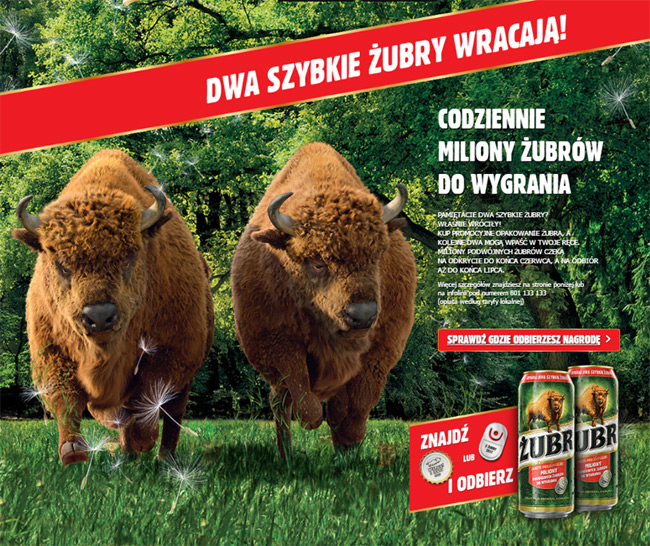zubr: (220, 120, 433, 475), (16, 130, 217, 488)
